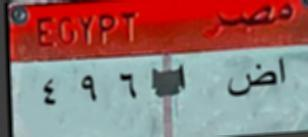4: (38, 77, 59, 109)
6: (114, 70, 140, 105)
9: (78, 70, 100, 108)
alif: (175, 62, 191, 92), (278, 55, 288, 86)
daad: (224, 60, 277, 100)
